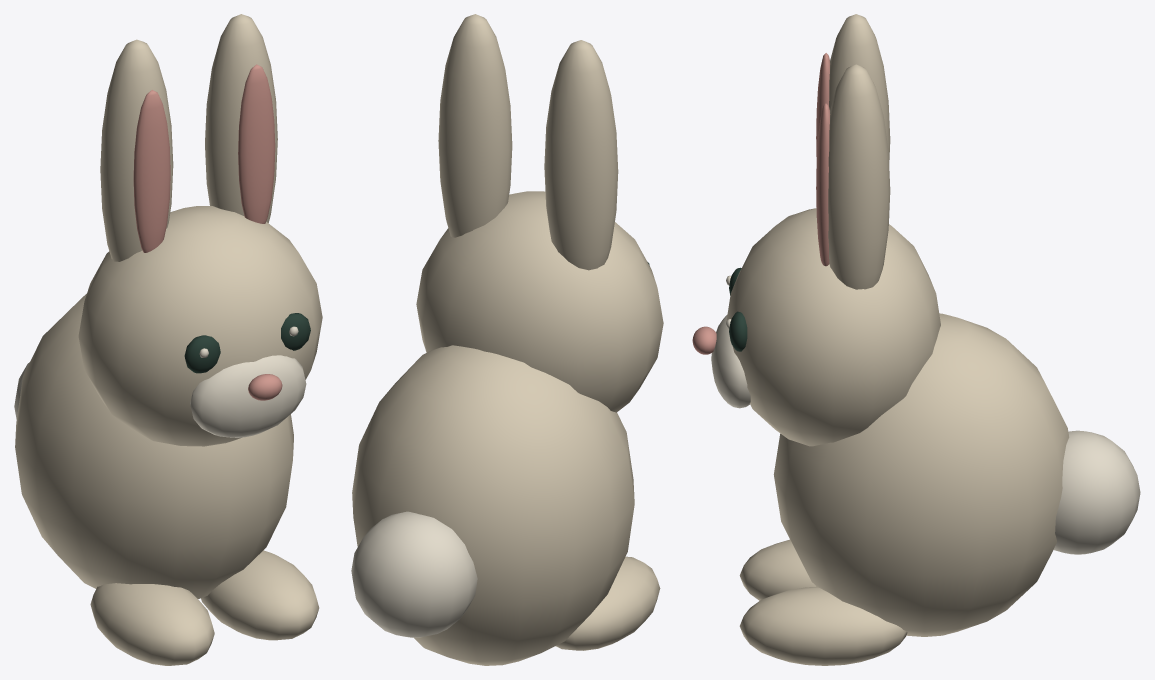
The model's file is rabbit.glb.
3 views of the same model, side by side, from view 1: azimuth 30°, elevation 25°; view 2: azimuth 150°, elevation 25°; view 3: azimuth 270°, elevation 25° (orthographic). The views are drawn at different scales.
Visible parts, largest first — view 1: body, ear_l, ear_r; view 2: body, ear_l, ear_r; view 3: body, ear_r, ear_l.
Boxes of the visible parts, box(x1,y1,x2,y2) form: body: box(14, 64, 322, 665); ear_l: box(100, 39, 173, 261); ear_r: box(205, 14, 277, 222); body: box(351, 191, 663, 665); ear_l: box(544, 40, 618, 270); ear_r: box(438, 14, 512, 237); body: box(692, 53, 1140, 665); ear_r: box(828, 64, 890, 289); ear_l: box(829, 14, 890, 162).
Bounding box in the file's own units: 0.96 × 2.31 × 1.58.
